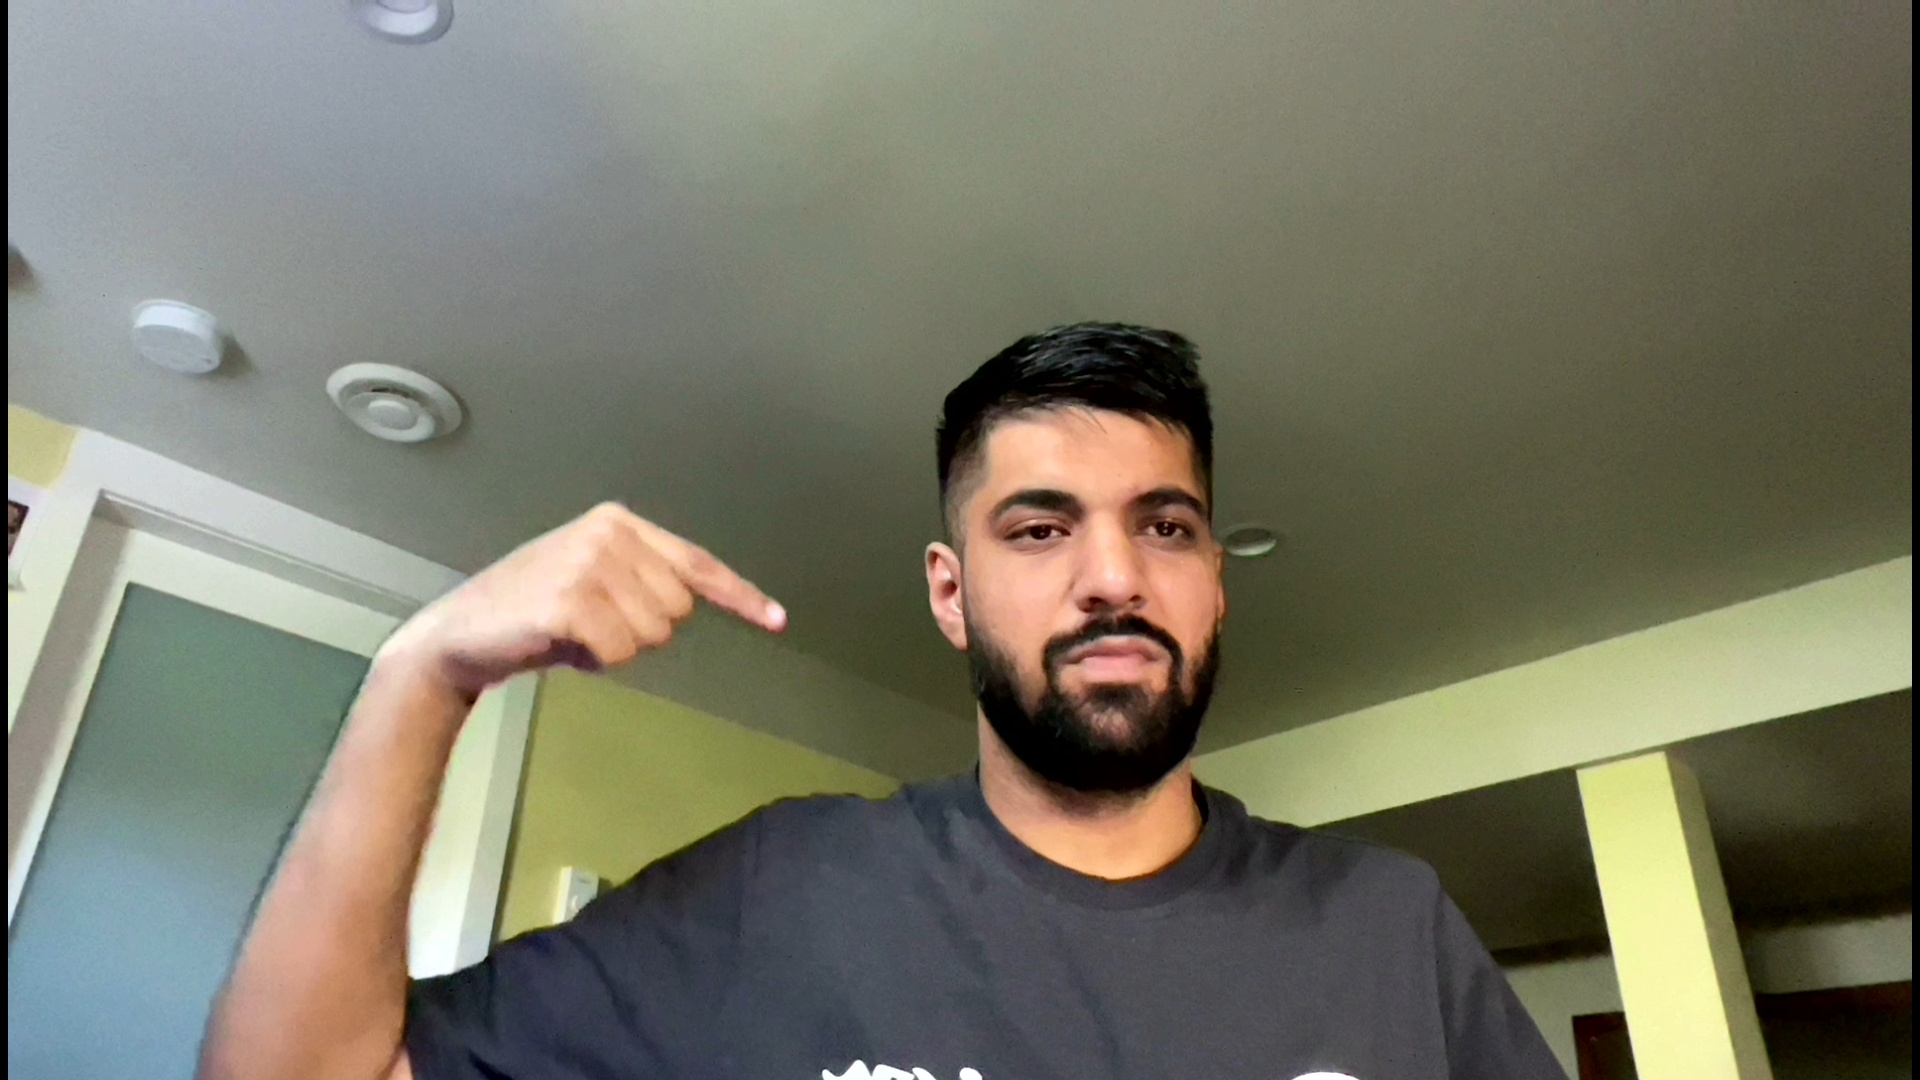Vikrant: (434, 471, 803, 711)
